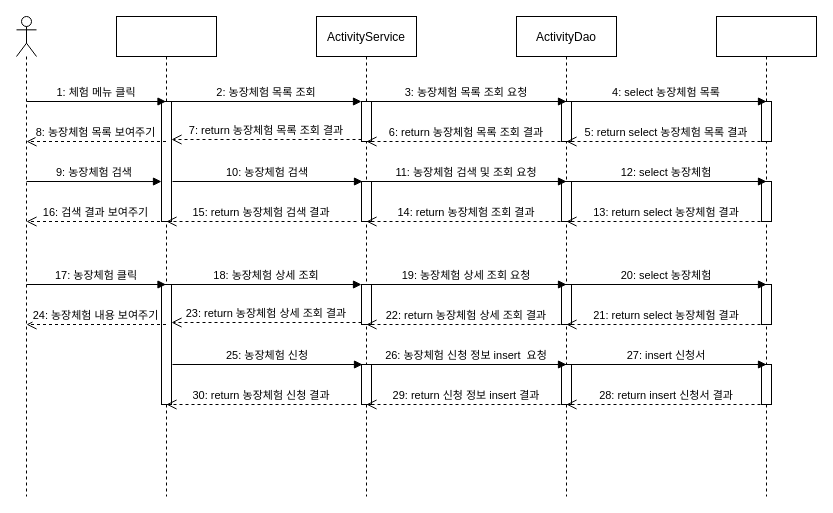
Some shapes in this 833 by 513 pixel diagram are drawn without their labels. The centre of each missing label's shape, as x and y in pixels:
ActivityController: the point at 166,256
DB: the point at 766,256
